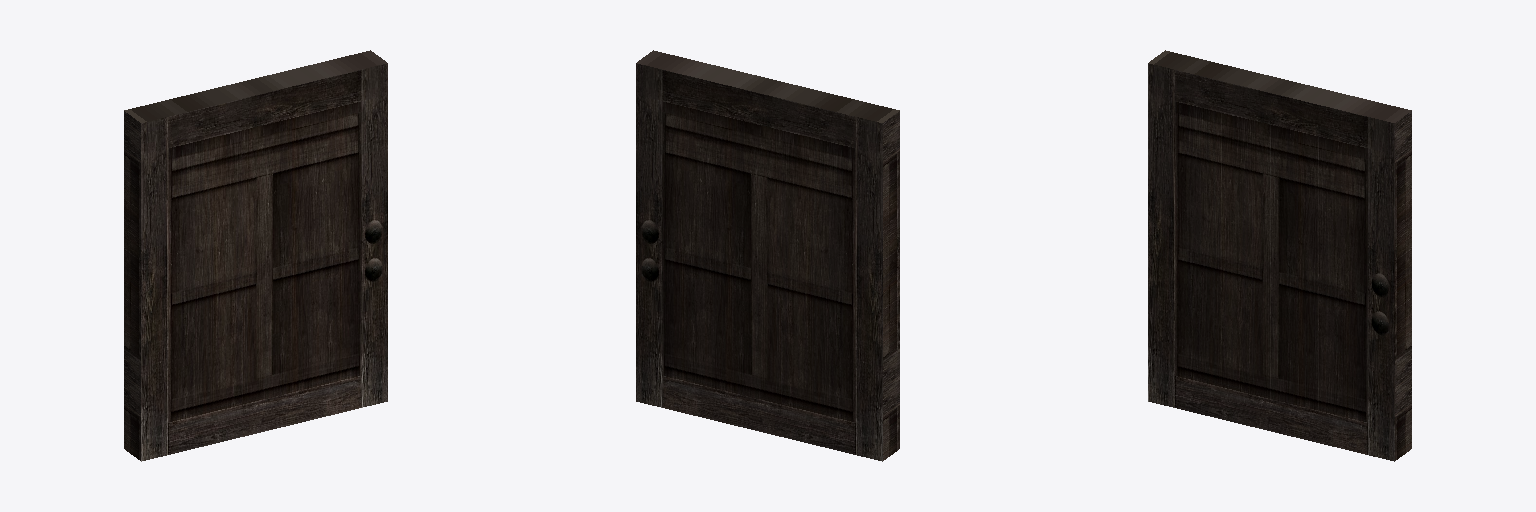
The picture shows the model from 3 angles: view 1: azimuth 30°, elevation 25°; view 2: azimuth 150°, elevation 25°; view 3: azimuth 330°, elevation 25°; orthographic projection.
Size of the model in its own units: 1.99 by 2.61 by 0.2447.
1 materials, 1 textured.